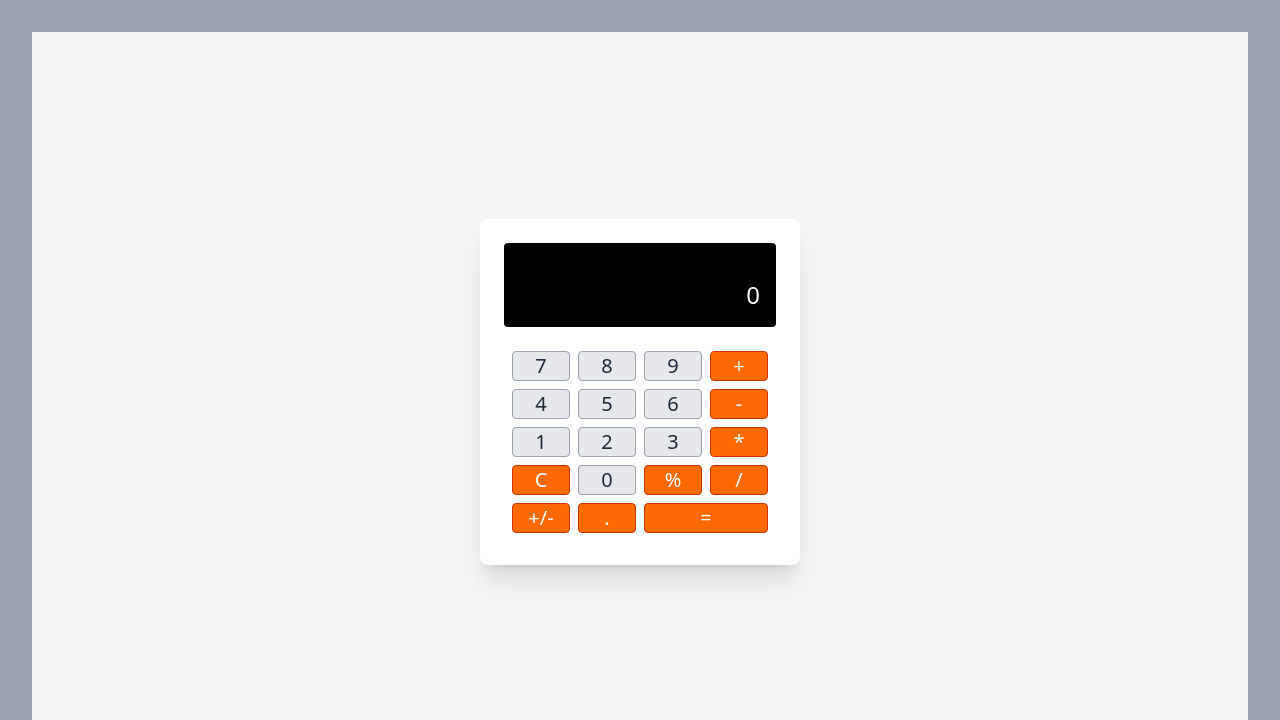
Calculadora › debe mostrar los números concatenados en el display
Click the button "1".
click(541, 442)  # box 512,427 -> 570,457
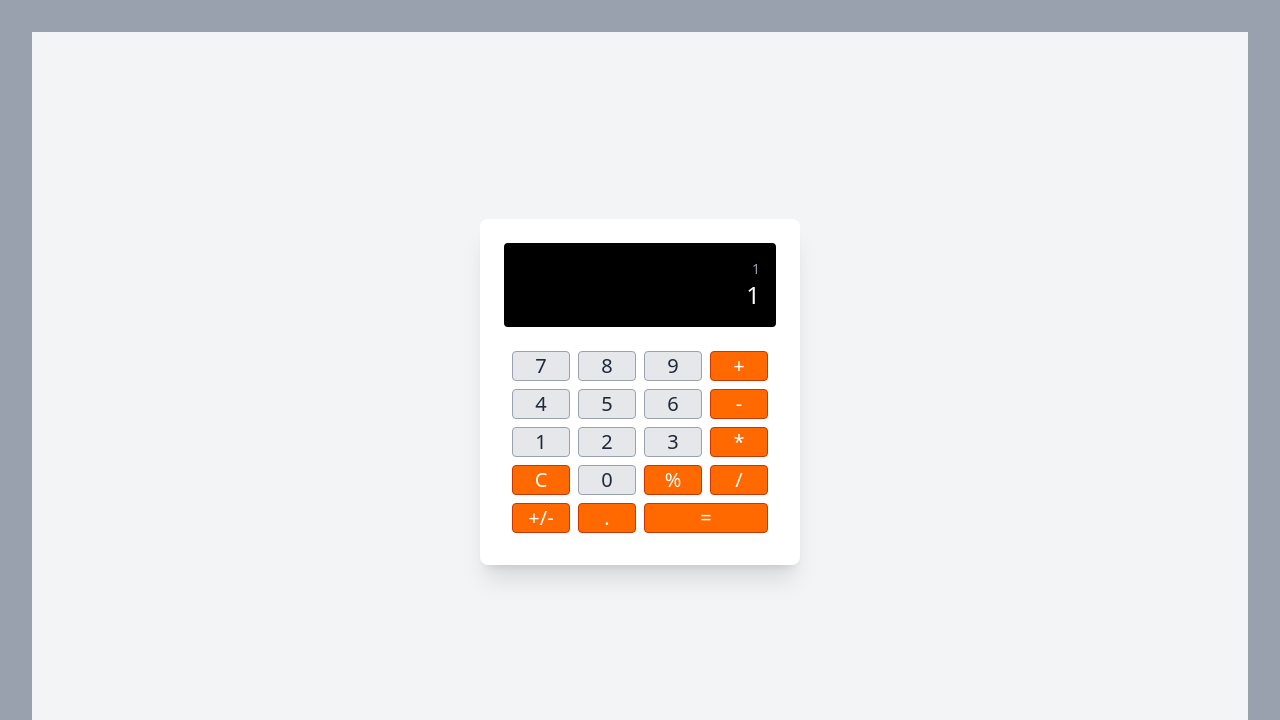
Click the button "2".
click(607, 442)  # box 578,427 -> 636,457
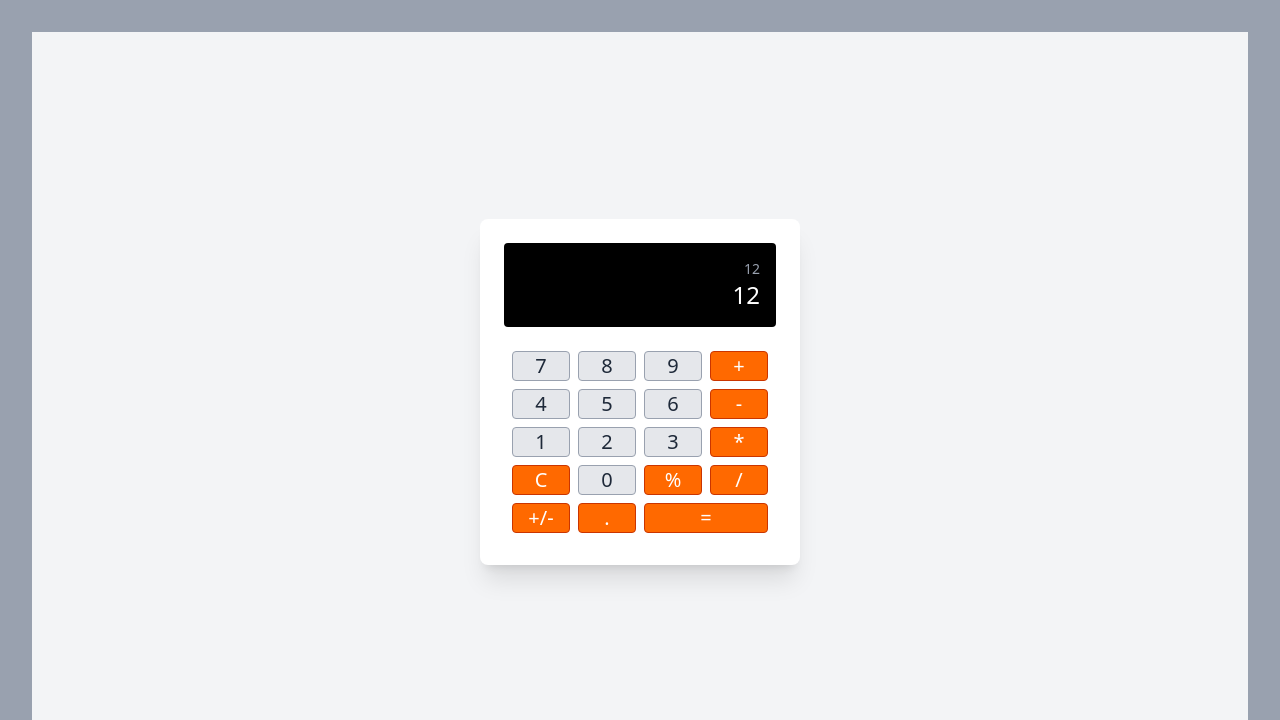
Click the button "3".
click(673, 442)  # box 644,427 -> 702,457
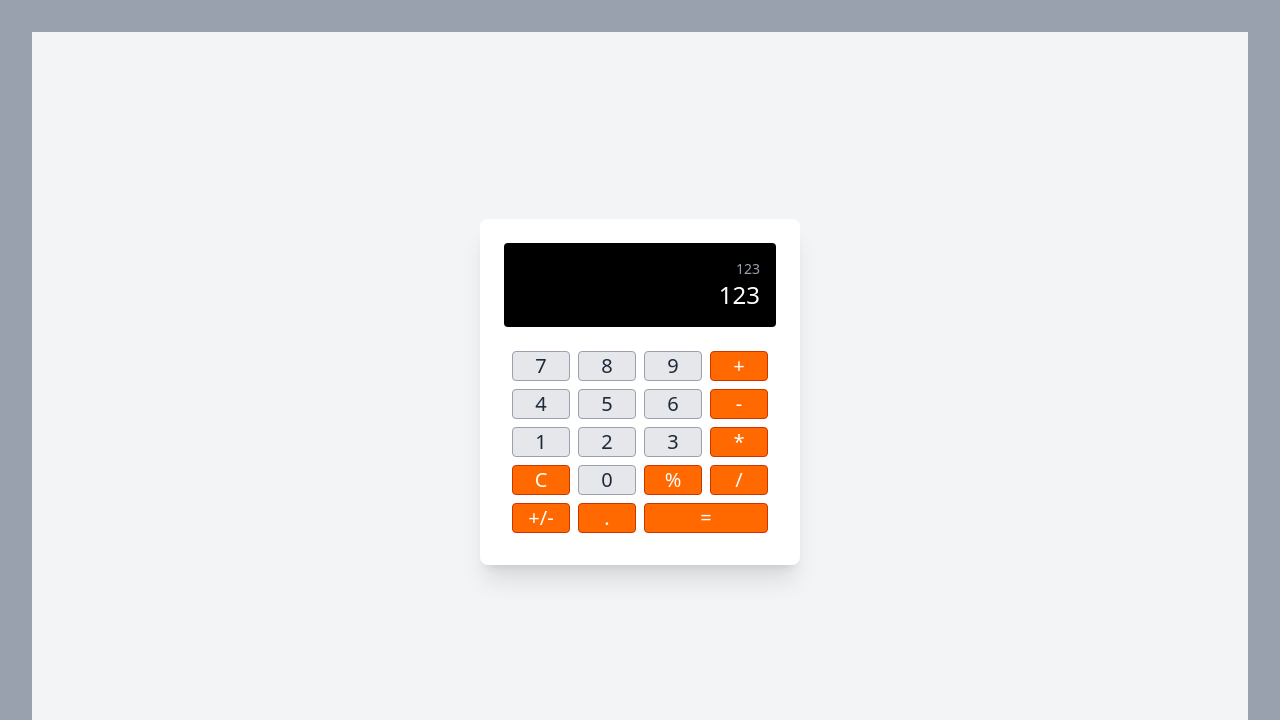
Expected: the text with test id "display" reads "123", 719,278 -> 760,311
